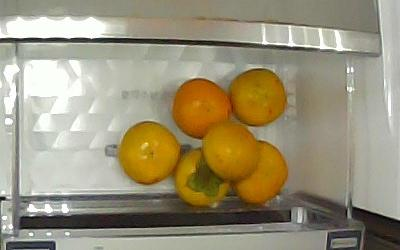persimmon: (119, 120, 182, 186), (173, 78, 232, 140), (234, 140, 289, 203), (230, 67, 288, 126), (202, 123, 261, 181), (176, 147, 229, 207)
